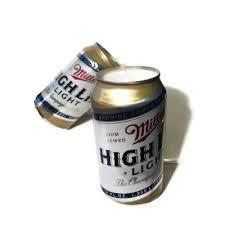beer: (93, 64, 167, 205), (33, 41, 122, 129)
